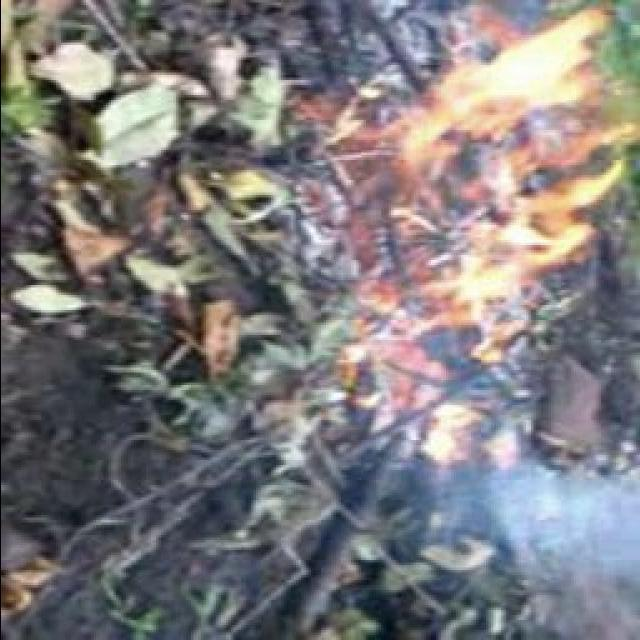Fire: (350, 6, 628, 358)
